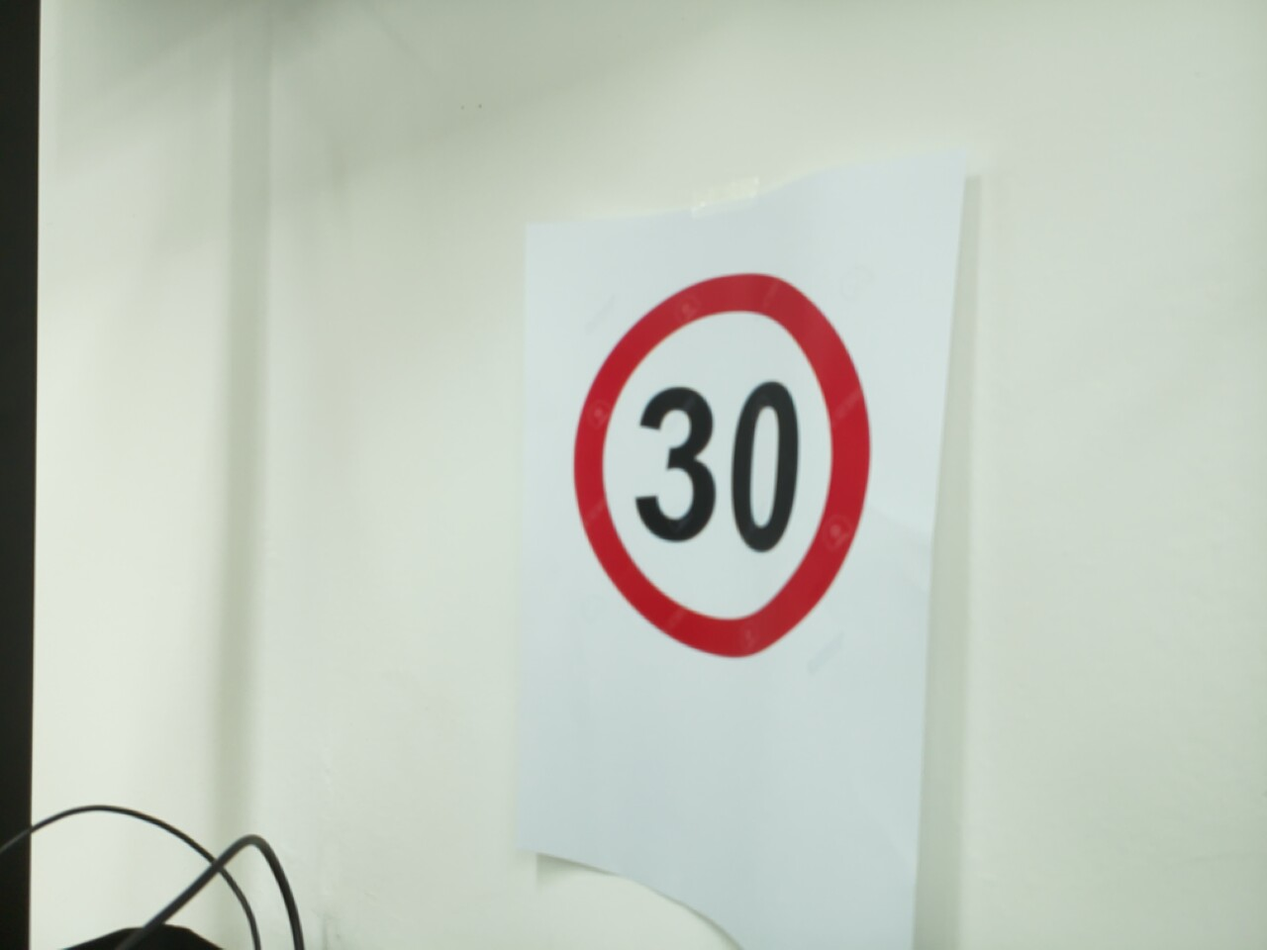speed_30: (563, 262, 880, 669)
